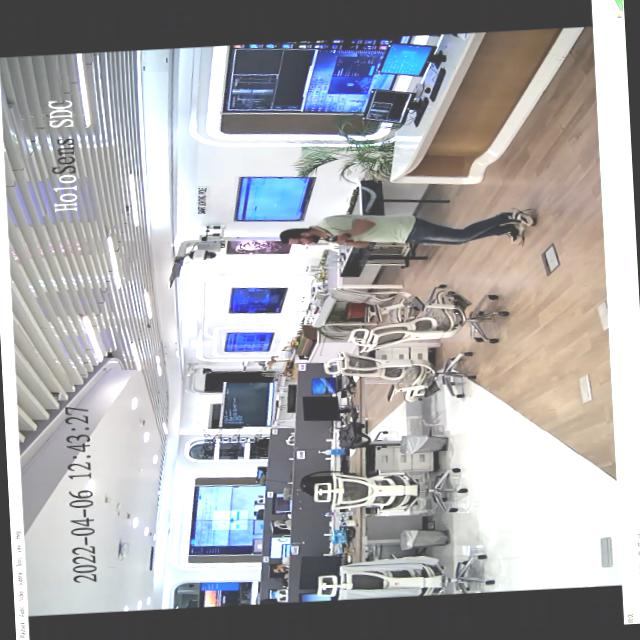long weapon: (324, 232, 357, 246)
